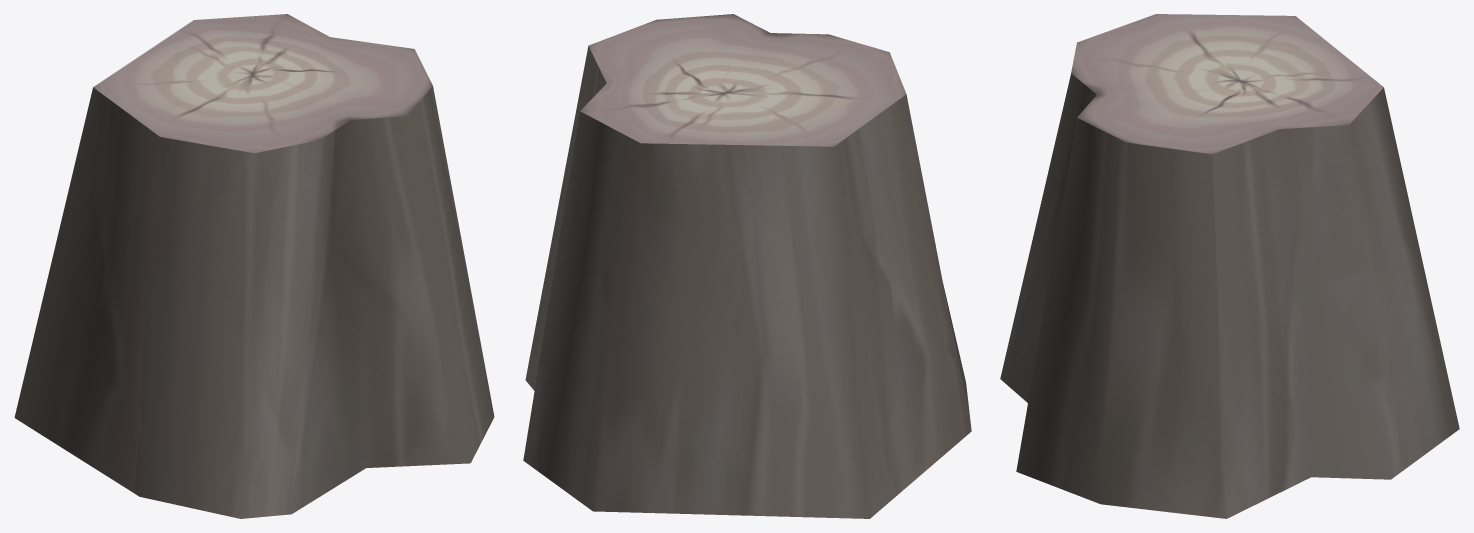
File: m_env_collect_tree_cedar_stump_01_v1_lod2.fbx
The picture shows the model from 3 angles, left to right: view 1: azimuth 30°, elevation 25°; view 2: azimuth 150°, elevation 25°; view 3: azimuth 270°, elevation 25°; orthographic projection. The views are drawn at different scales.
Visible parts, largest first — view 1: m_env_collect_tree_cedar_stump_01_v1_lod2; view 2: m_env_collect_tree_cedar_stump_01_v1_lod2; view 3: m_env_collect_tree_cedar_stump_01_v1_lod2.
Boxes of the visible parts, x1,y1,x2,y2 form: m_env_collect_tree_cedar_stump_01_v1_lod2: [14, 14, 494, 518]; m_env_collect_tree_cedar_stump_01_v1_lod2: [523, 14, 971, 518]; m_env_collect_tree_cedar_stump_01_v1_lod2: [1000, 14, 1459, 518].
Size of the model in its own units: 110 by 89.67 by 110.
